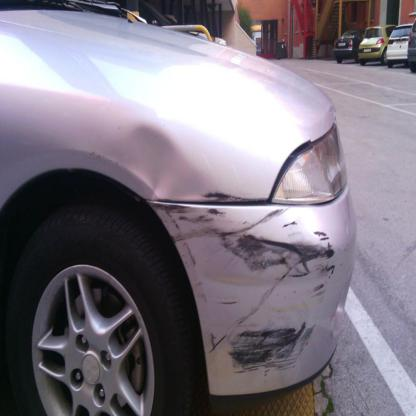front_bumper: (148, 184, 356, 416)
headlamp: (274, 120, 345, 205)
hood: (1, 12, 337, 134)
